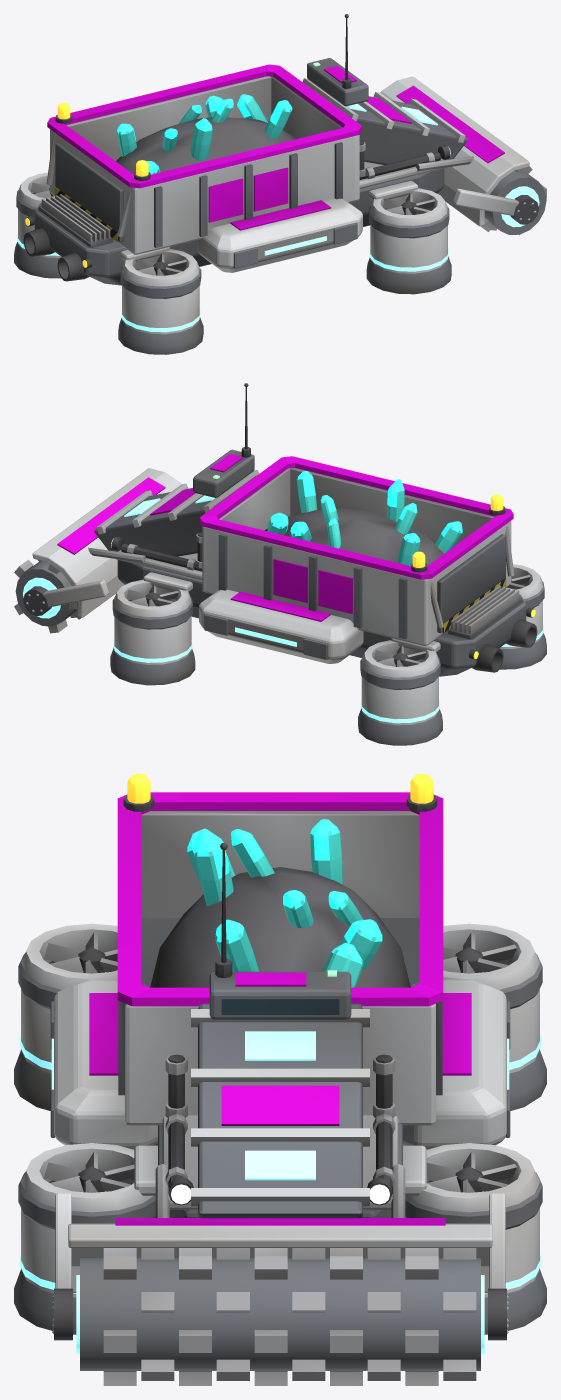
The model's file is harvest_drone.glb.
3 renders of one model, top to bottom at view 1: azimuth 30°, elevation 25°; view 2: azimuth 150°, elevation 25°; view 3: azimuth 270°, elevation 25°, orthographic. The views are drawn at different scales.
Visible parts, largest first — view 1: Body, OreLoad, CollectorDrum; view 2: Body, OreLoad, CollectorDrum; view 3: Body, CollectorDrum, OreLoad.
Part boxes in pixels (x1,y1,x2,y2): Body: (14,14,539,354); OreLoad: (116,94,296,174); CollectorDrum: (480,166,546,235); Body: (23,383,546,745); OreLoad: (265,471,462,566); CollectorDrum: (14,559,81,633); Body: (14,774,546,1340); CollectorDrum: (76,1248,484,1385); OreLoad: (150,819,410,987).
Size of the model in its own units: 4 by 2.05 by 2.26.
Materials: 1 (1 with a texture image).
